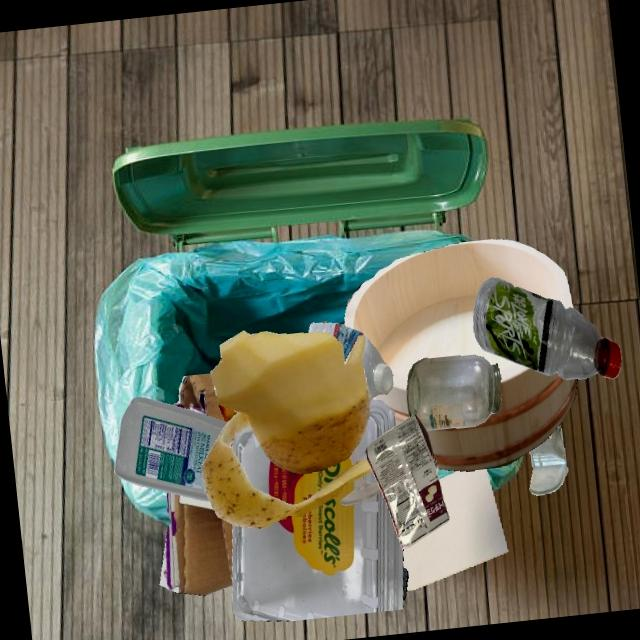biowaste: (201, 330, 372, 528), (221, 323, 323, 411)
cardboard: (159, 492, 232, 595)
combustible waste: (344, 239, 577, 471)
glass: (406, 354, 501, 430), (529, 424, 567, 495), (347, 475, 380, 505)
paper: (402, 468, 508, 590)
plastic: (232, 489, 402, 620), (473, 277, 621, 379), (114, 397, 227, 501), (365, 414, 449, 549), (308, 322, 392, 399), (341, 323, 345, 326)
trash: (402, 568, 408, 600)
